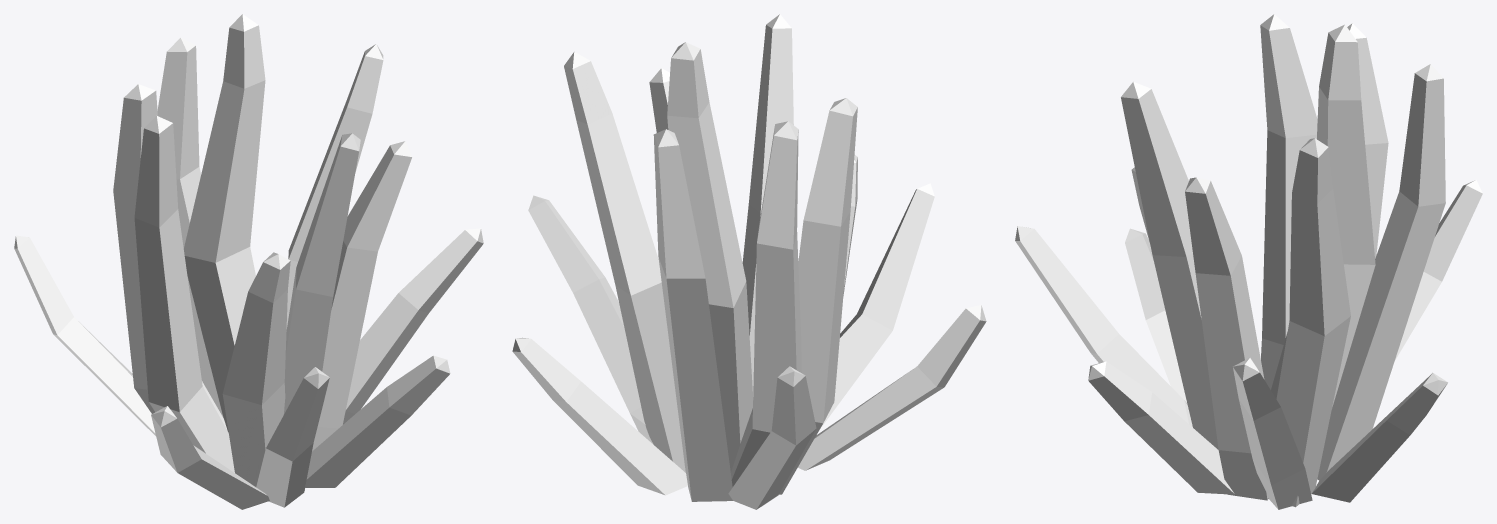
The model's file is SM_Prop_Coral_01.glb.
3 views of the same model, side by side, from view 1: azimuth 30°, elevation 25°; view 2: azimuth 150°, elevation 25°; view 3: azimuth 270°, elevation 25° (orthographic). The views are drawn at different scales.
Visible parts, largest first — view 1: SM_Prop_Coral_01; view 2: SM_Prop_Coral_01; view 3: SM_Prop_Coral_01.
Boxes of the visible parts, x1,y1,x2,y2 form: SM_Prop_Coral_01: [14, 14, 483, 509]; SM_Prop_Coral_01: [512, 14, 986, 509]; SM_Prop_Coral_01: [1015, 14, 1482, 509].
Bounding box in the file's own units: 0.2556 × 0.2772 × 0.2574.
1 material, 1 textured.
